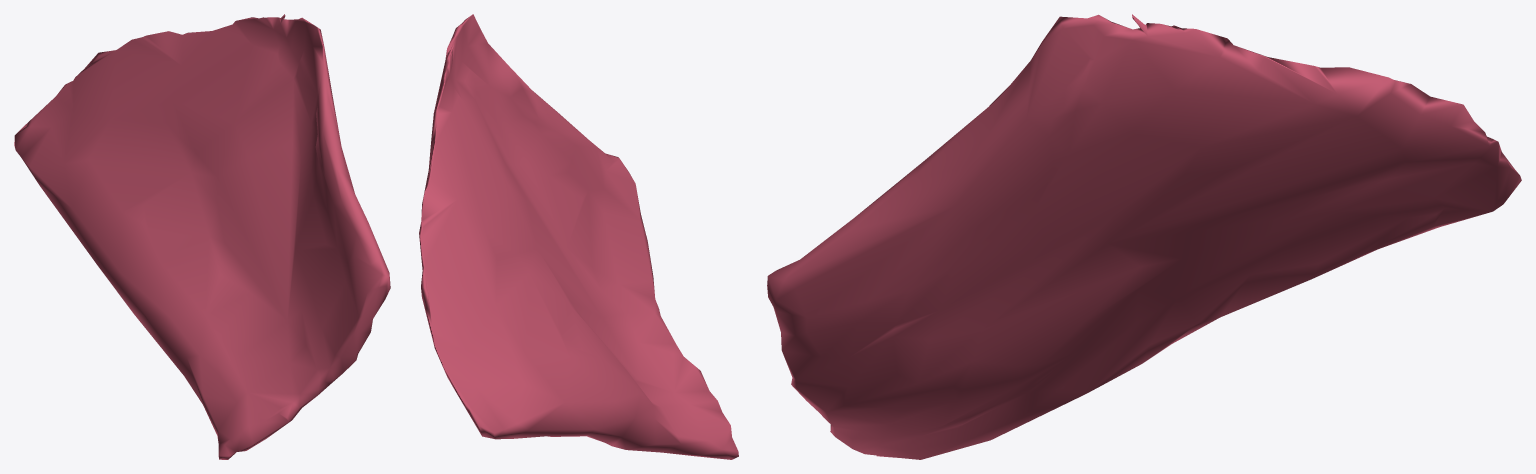
The picture shows the model from 3 angles, left to right: view 1: azimuth 30°, elevation 25°; view 2: azimuth 150°, elevation 25°; view 3: azimuth 270°, elevation 25°; orthographic projection. The views are drawn at different scales.
Parts seen in each view (by area): view 1: 左侧甲状舌骨肌; view 2: 左侧甲状舌骨肌; view 3: 左侧甲状舌骨肌.
Boxes of the visible parts, x1,y1,x2,y2 form: 左侧甲状舌骨肌: [14, 14, 390, 459]; 左侧甲状舌骨肌: [419, 14, 738, 459]; 左侧甲状舌骨肌: [767, 14, 1521, 459].
Size of the model in its own units: 0.0181 by 0.0369 by 0.0454.
